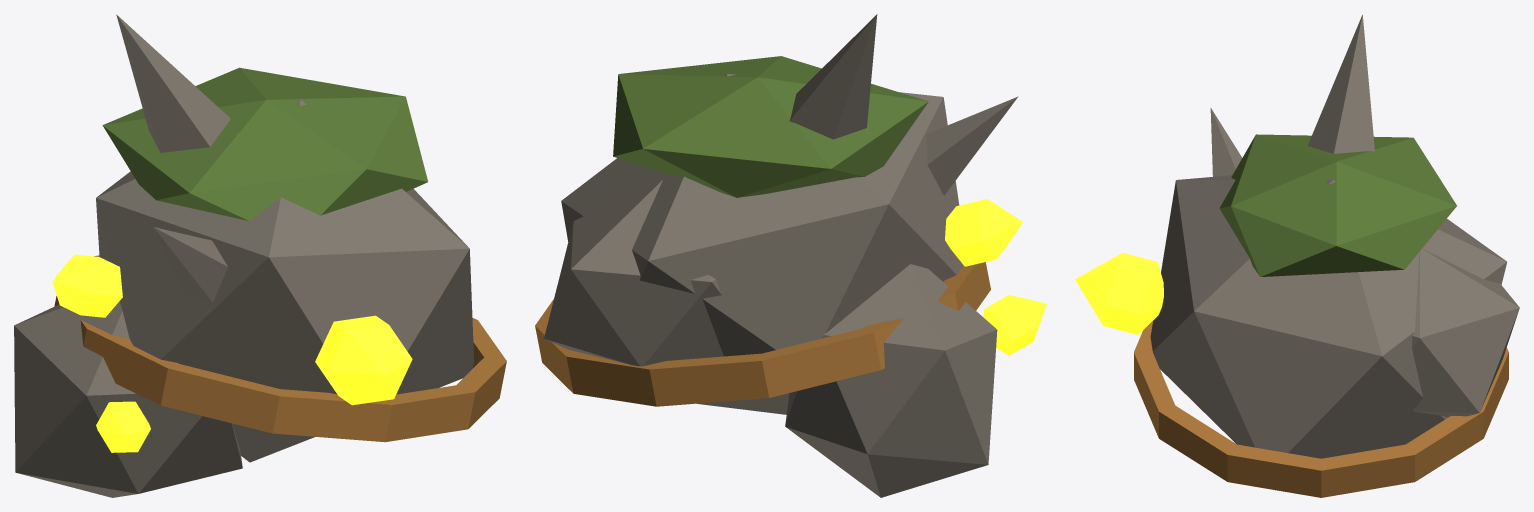
The model's file is S4_Earth_Pauldron_R.fbx.
3 renders of one model, left to right at view 1: azimuth 30°, elevation 25°; view 2: azimuth 150°, elevation 25°; view 3: azimuth 270°, elevation 25°, orthographic. The views are drawn at different scales.
Parts seen in each view (by area): view 1: S4_Earth_Pauldron_R; view 2: S4_Earth_Pauldron_R; view 3: S4_Earth_Pauldron_R.
Part boxes in pixels (x1,y1,x2,y2): S4_Earth_Pauldron_R: (14, 14, 506, 497); S4_Earth_Pauldron_R: (535, 14, 1046, 497); S4_Earth_Pauldron_R: (1075, 15, 1519, 497).
Size of the model in its own units: 0.5765 by 0.5997 by 0.5872.
